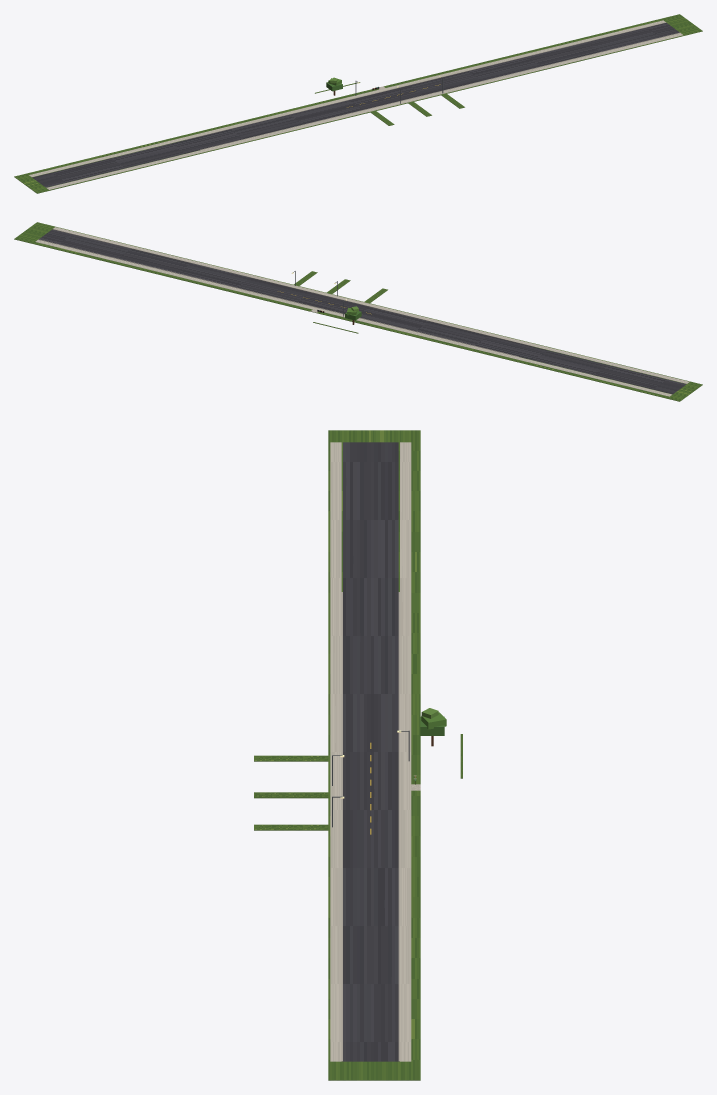
Rendered from structure.glb.
3 views of the same model, one above another, from view 1: azimuth 30°, elevation 25°; view 2: azimuth 150°, elevation 25°; view 3: azimuth 270°, elevation 25° (orthographic). The views are drawn at different scales.
Parts seen in each view (by area): view 1: Box6, Box1, Box18, Box17, Box15, Box16; view 2: Box6, Box1, Box17, Box18, Box16, Box15; view 3: Box6, Box1, Box17, Box18.
Boxes of the visible parts, x1=… form: Box6: x1=32, y1=22, x2=679, y2=187; Box1: x1=14, y1=14, x2=702, y2=193; Box18: x1=46, y1=33, x2=683, y2=189; Box17: x1=29, y1=20, x2=665, y2=177; Box15: x1=185, y1=22, x2=666, y2=139; Box16: x1=200, y1=32, x2=680, y2=150; Box6: x1=39, y1=229, x2=686, y2=394; Box1: x1=14, y1=222, x2=702, y2=401; Box17: x1=35, y1=240, x2=672, y2=396; Box18: x1=53, y1=227, x2=689, y2=383; Box16: x1=52, y1=229, x2=532, y2=346; Box15: x1=38, y1=239, x2=518, y2=356; Box6: x1=343, y1=442, x2=398, y2=1061; Box1: x1=328, y1=430, x2=420, y2=1080; Box17: x1=400, y1=442, x2=411, y2=1061; Box18: x1=330, y1=442, x2=341, y2=1061.
Size of the model in its own units: 212 by 5.16 by 28.84.
15 materials, 3 textured.
